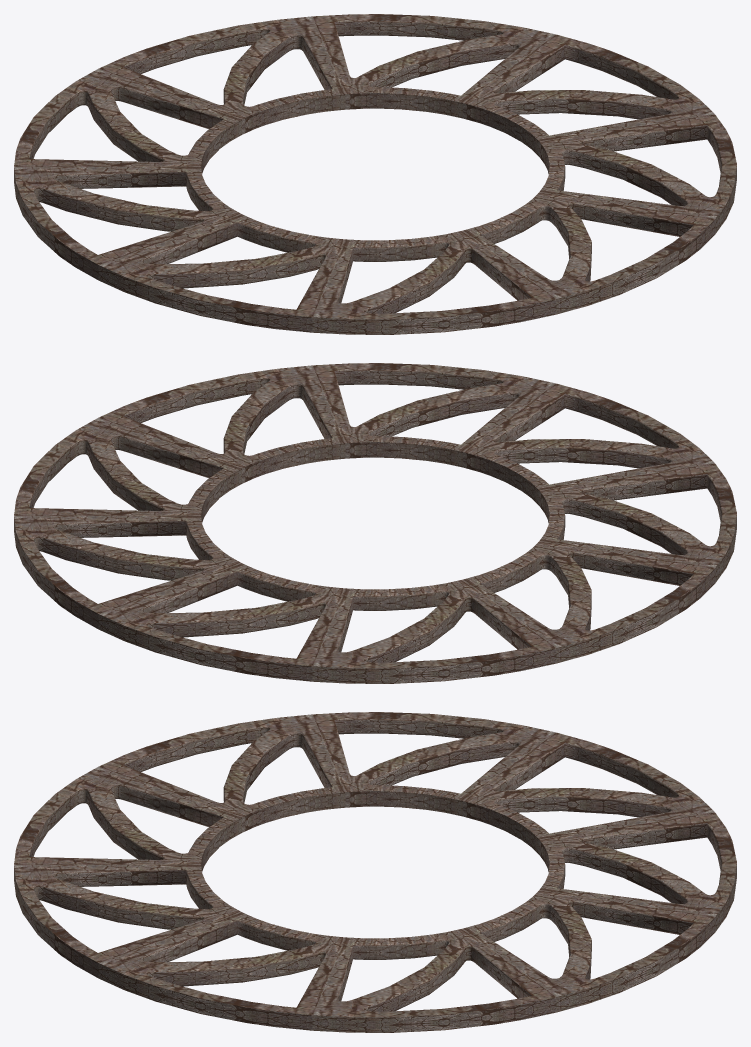
Rendered from ring_disk_big_a.FBX.
The picture shows the model from 3 angles, top to bottom: view 1: azimuth 30°, elevation 25°; view 2: azimuth 150°, elevation 25°; view 3: azimuth 270°, elevation 25°; orthographic projection.
Visible parts, largest first — view 1: ring_disk_big; view 2: ring_disk_big; view 3: ring_disk_big.
Part boxes in pixels (x1,y1,x2,y2): ring_disk_big: (14,14,736,334); ring_disk_big: (14,363,736,683); ring_disk_big: (14,712,736,1032).
Size of the model in its own units: 15.45 by 15.46 by 0.3662.
